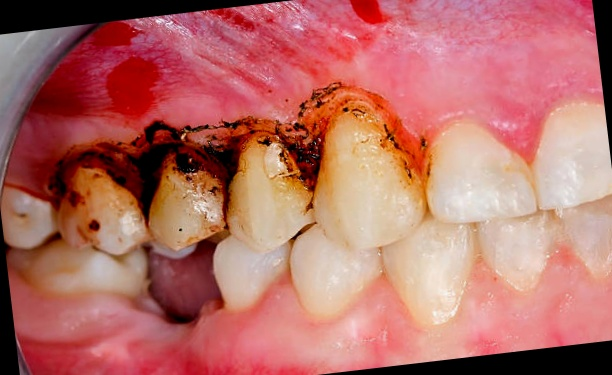Gingivitis: (84, 41, 189, 126)
